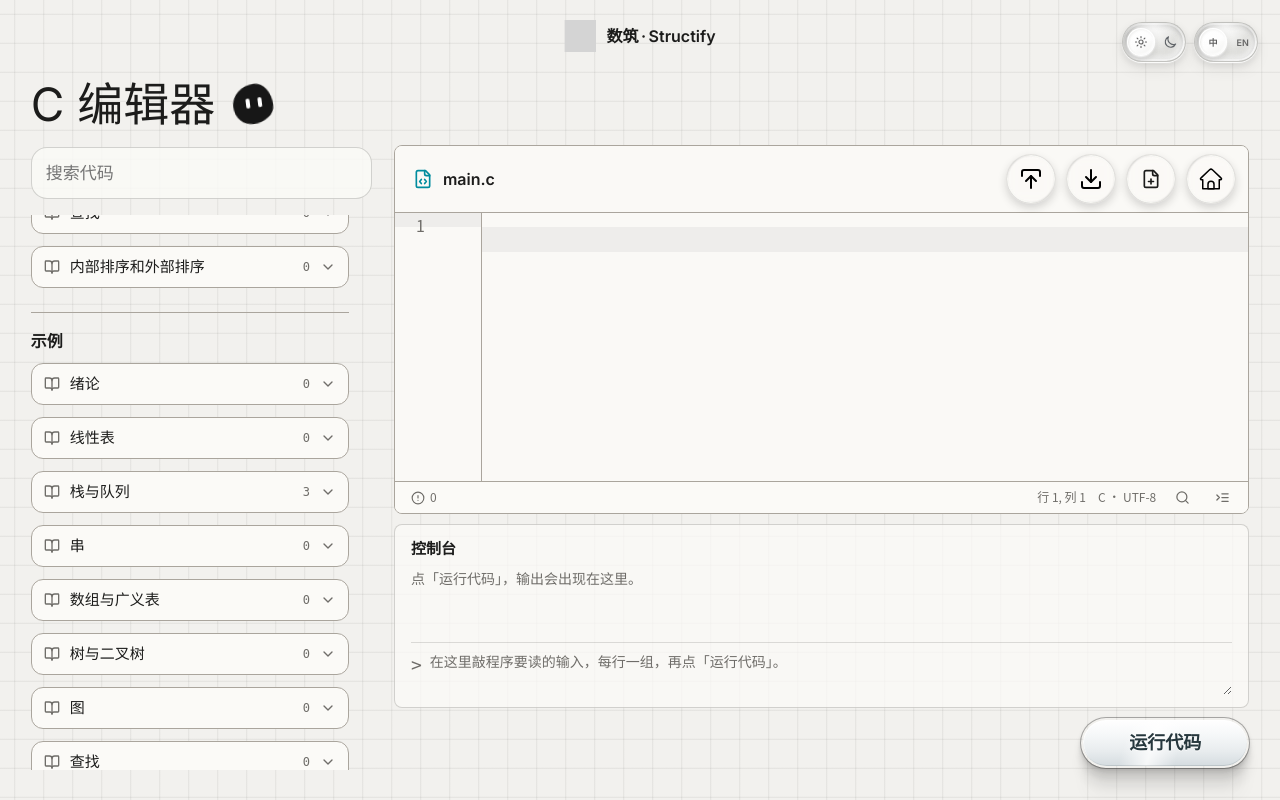
Test: code library page › loads the verified example around a listing, input included
(page scrolled)
Click the button "栈与队列 3" at (100, 492), box [31, 471, 349, 513]
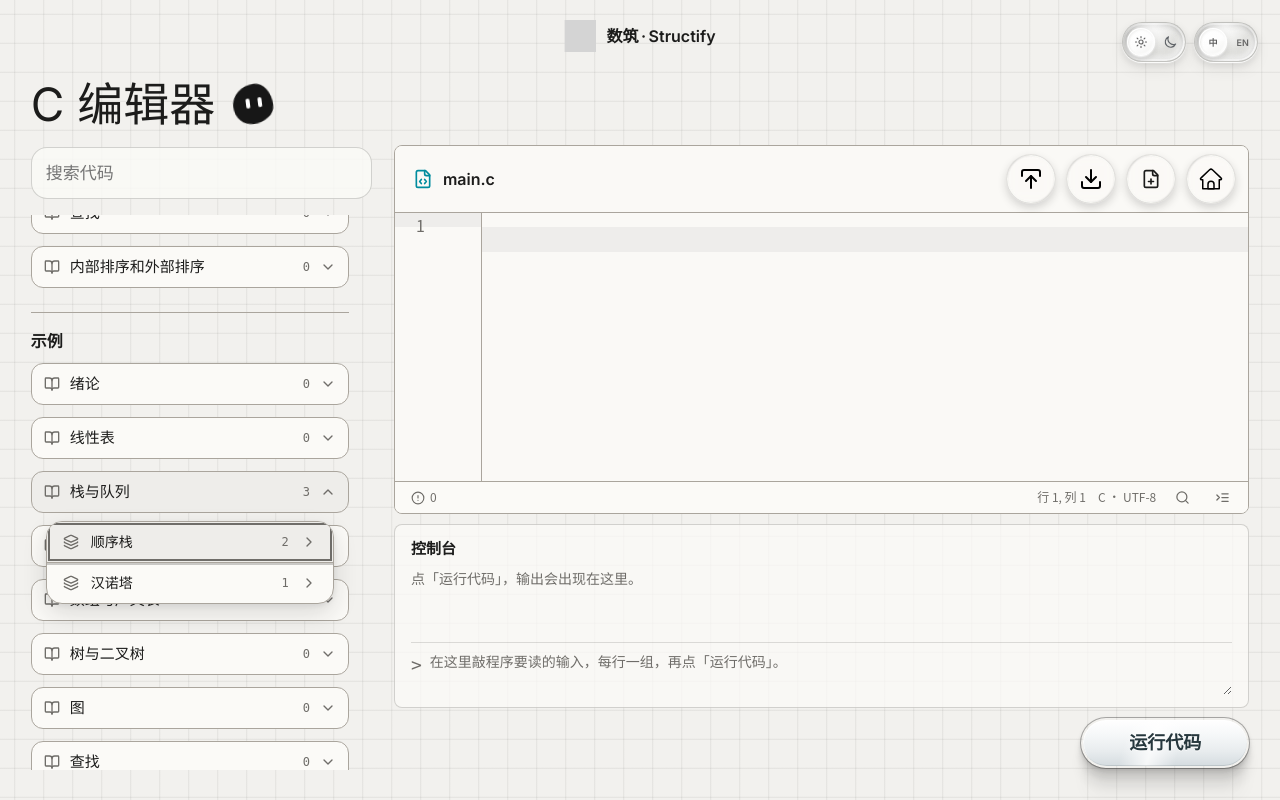
Click the menu item with class "code-menu__item" showing "顺序栈 2" at (112, 542), box [47, 522, 333, 562]
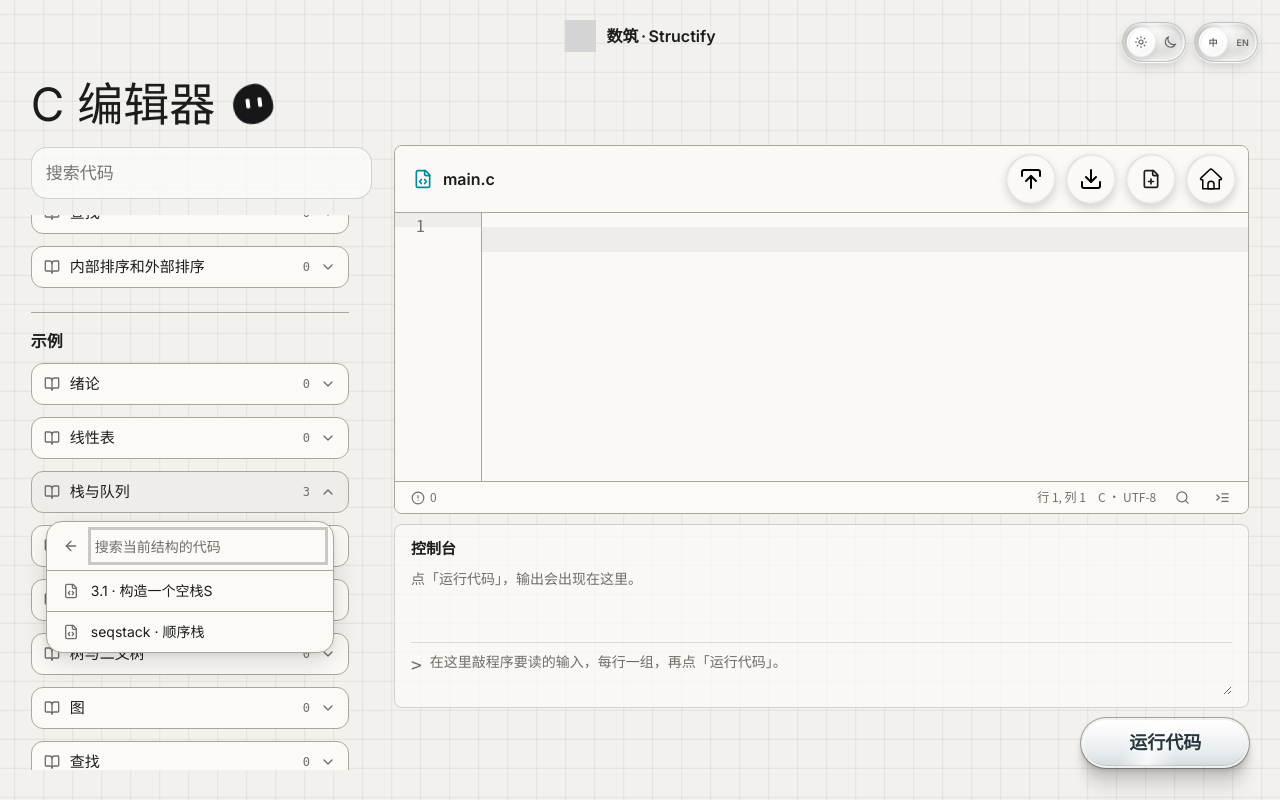
Click the menu item "3.1 · 构造一个空栈S" at (190, 591), box [47, 571, 333, 611]
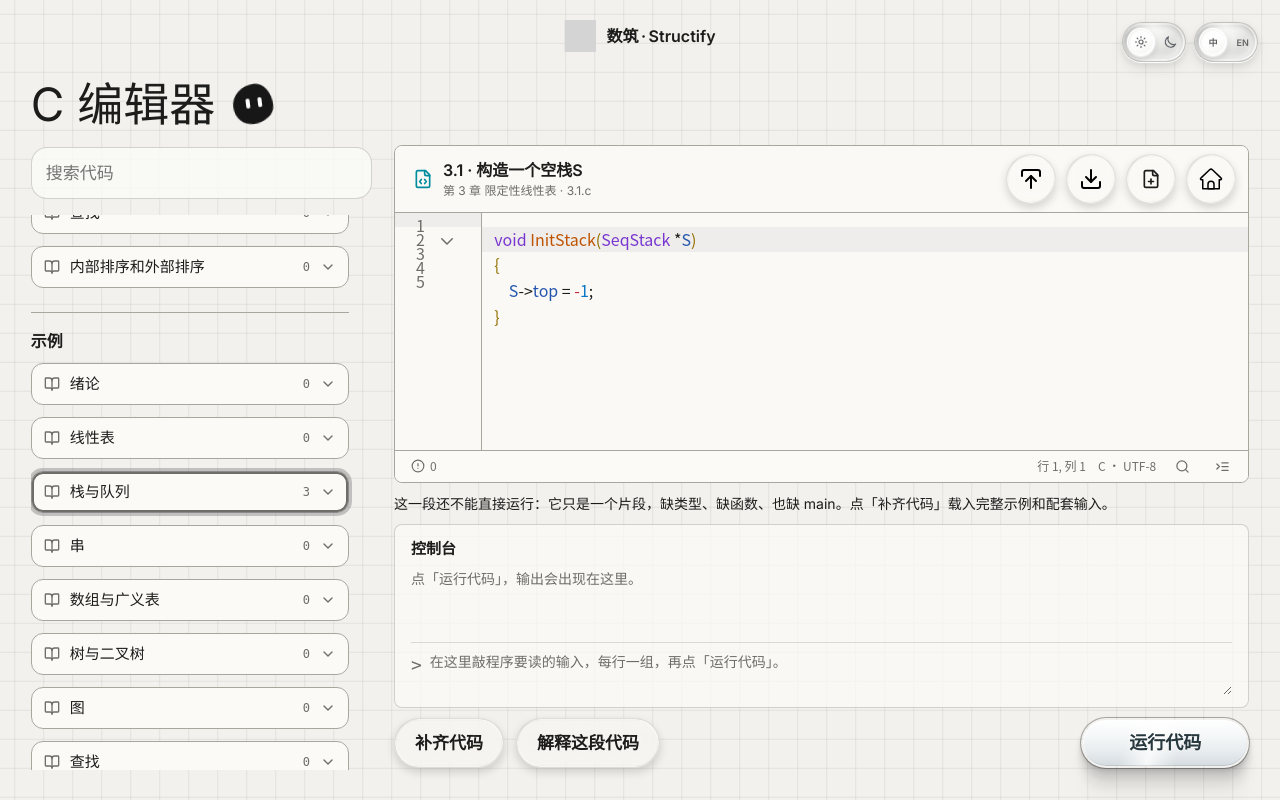
Now the text "缺类型、缺函数、也缺 main" is shown, box [394, 495, 1116, 512]
Now the button with class "library__chip" reads "补齐代码"
Click the button with class "library__chip" showing "补齐代码" at (449, 743), box [394, 718, 504, 768]
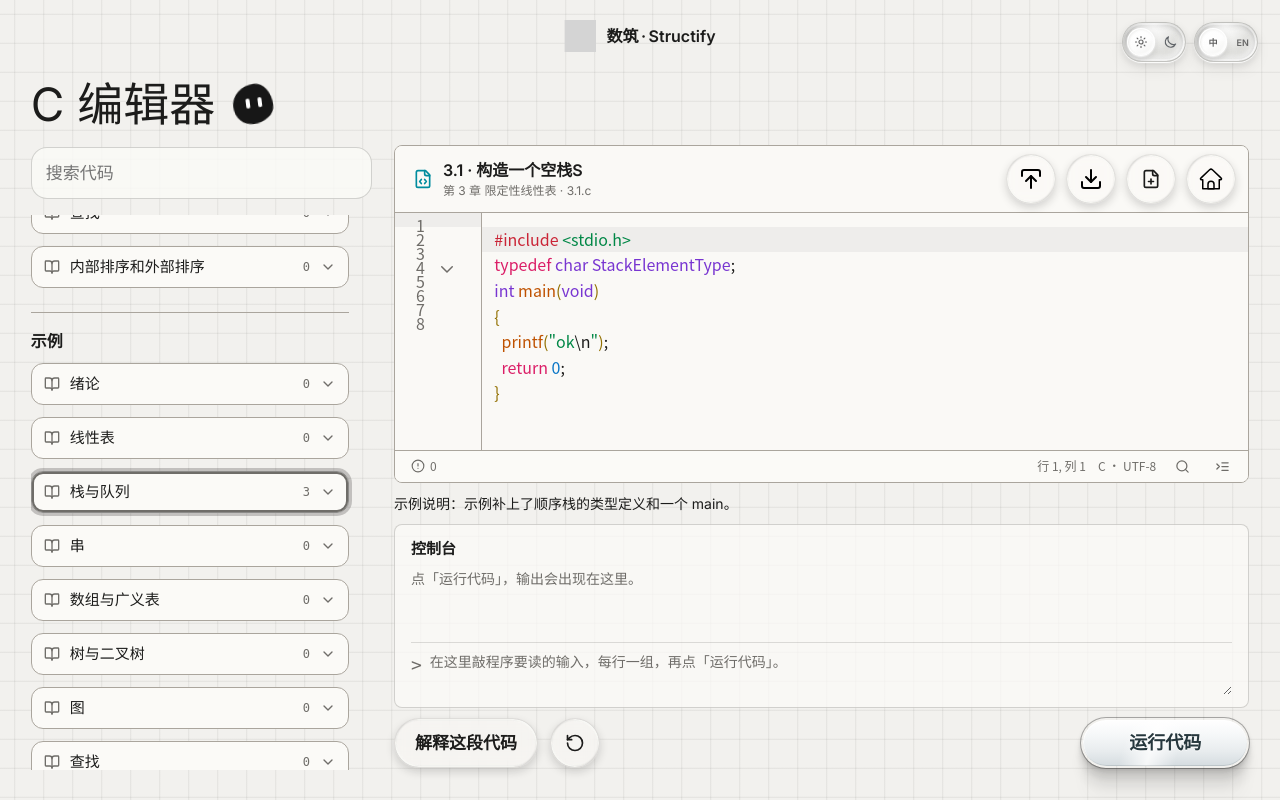
Now the text "示例补上了顺序栈的类型定义和一个 main" is shown, box [394, 495, 738, 512]
Click the button named "运行代码" at (1165, 743), box [1081, 718, 1249, 768]
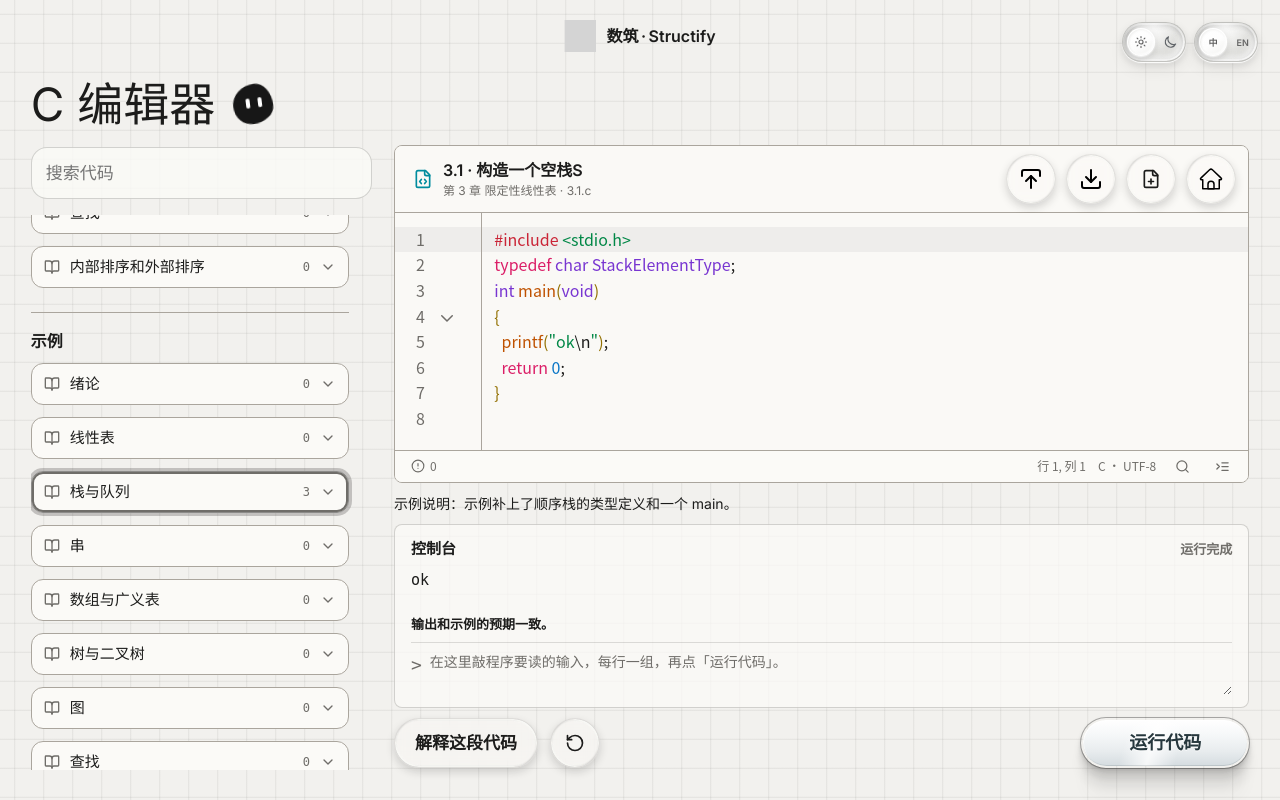
Now the text "输出和示例的预期一致" is shown, box [411, 616, 554, 632]
